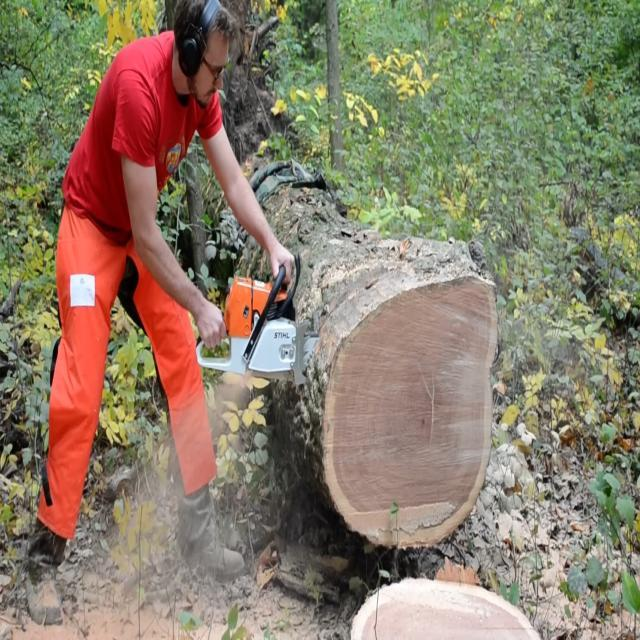Chainsaw: (176, 264, 332, 401)
